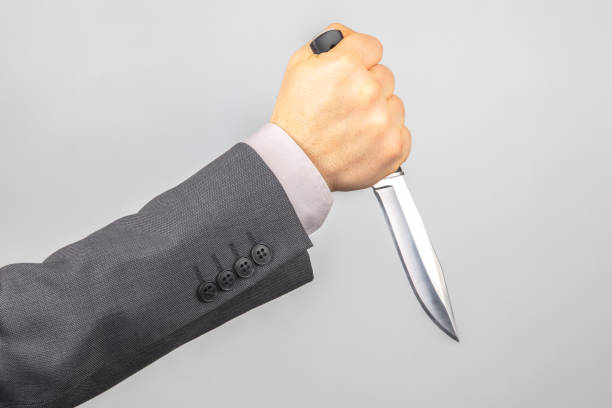knife: (309, 26, 460, 345)
